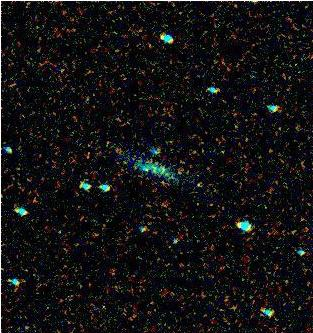star: (182, 170, 212, 200)
